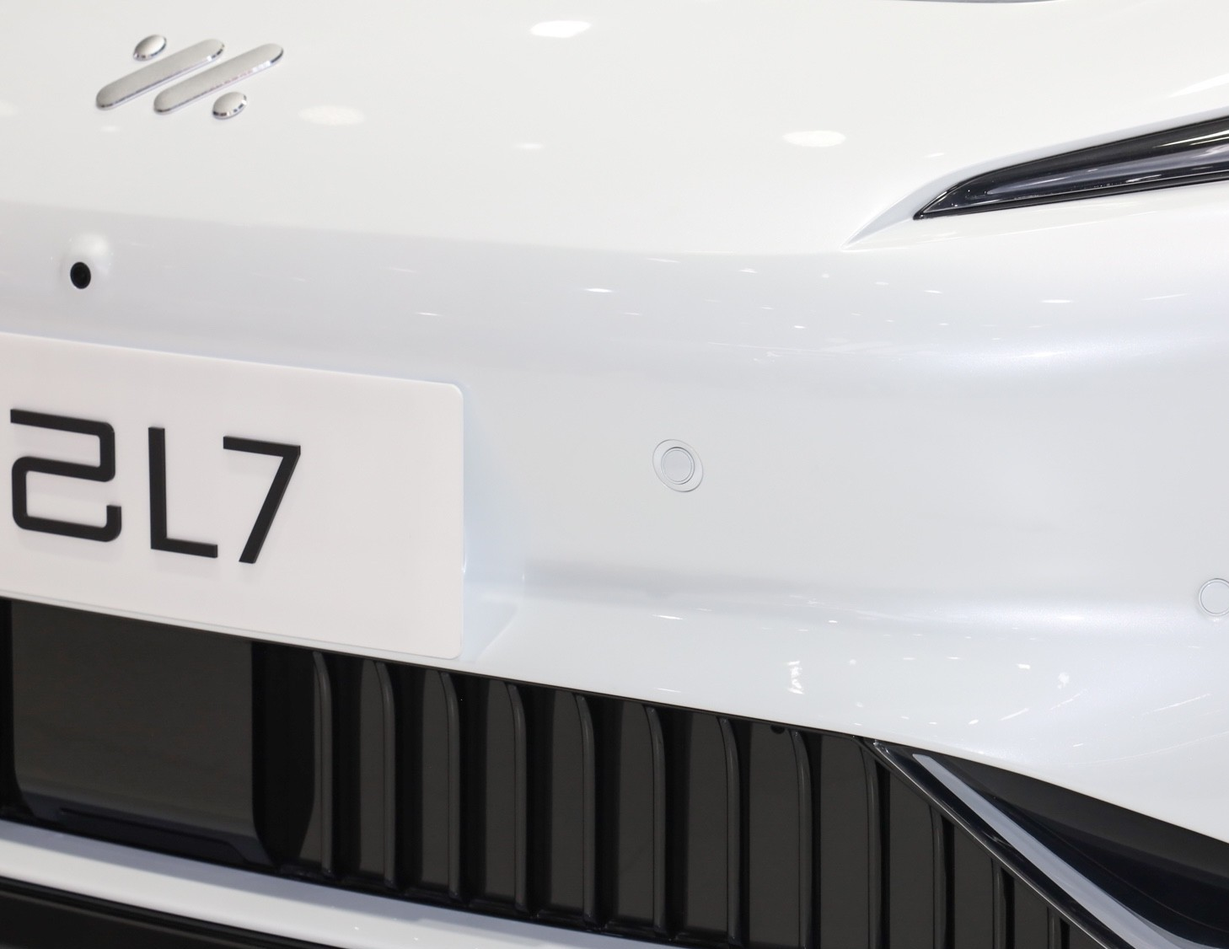IM: (96, 35, 283, 119)
